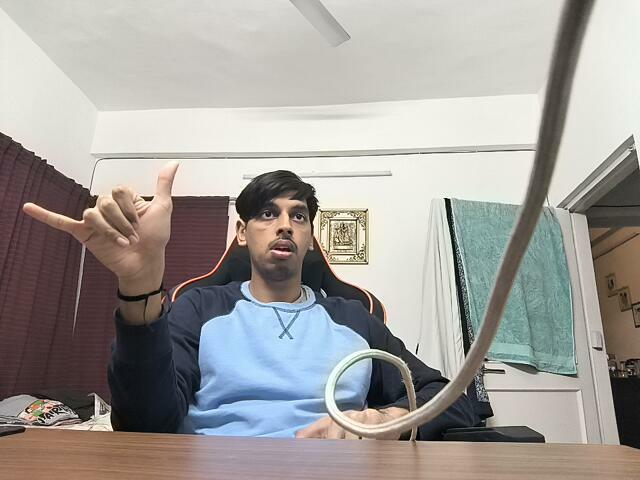FLIP: (20, 151, 201, 287)
